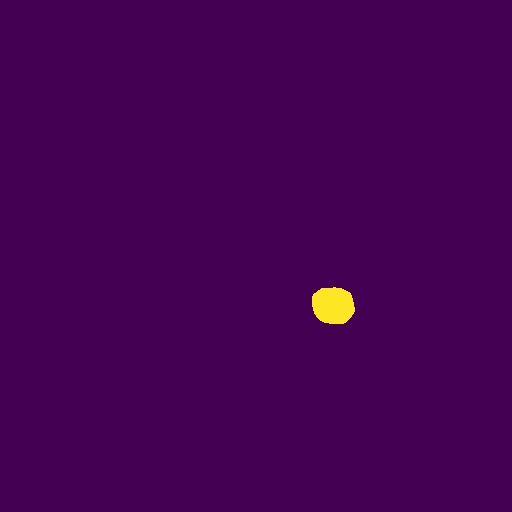Menigiomia_tumour: (312, 287, 355, 324)
